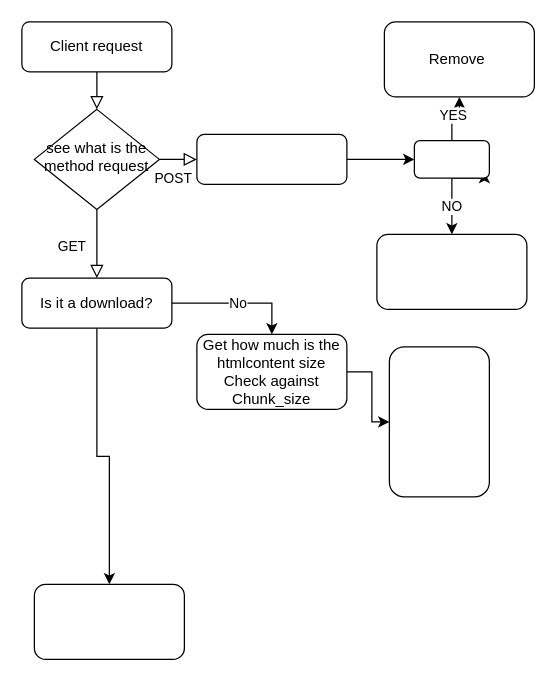
This 556x681 diagram has some shape labels left out. The centre of each missing label's shape, as x and y in pixels:
is htmlContent bigger than Chunk_size?: (x=438, y=421)
It will be an upload of a file: (x=271, y=158)
Was the file fully sent?: (x=451, y=158)
